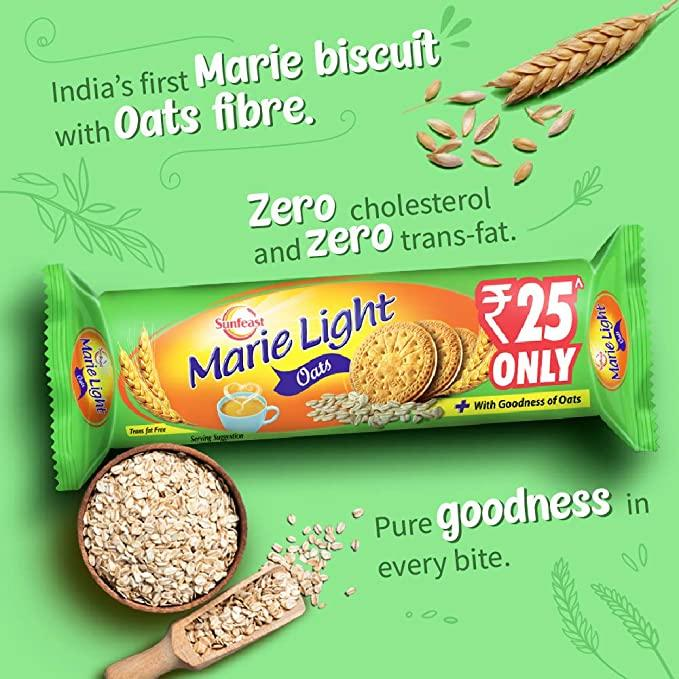MarieLight: (41, 221, 662, 493)
